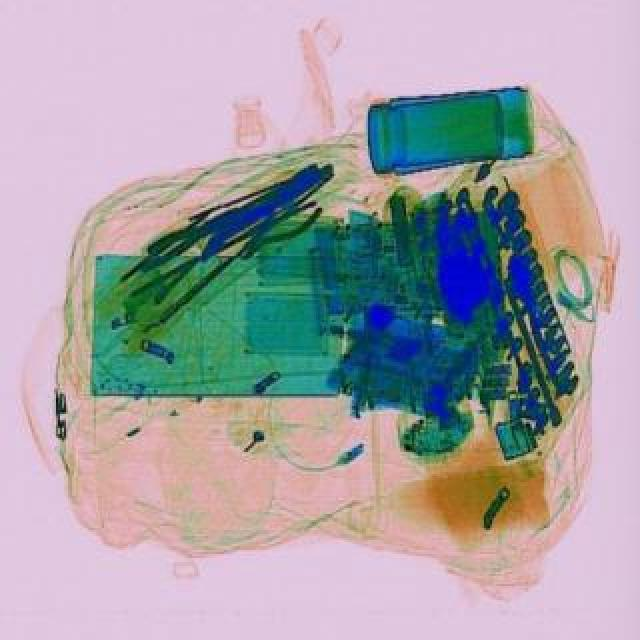wrench: (228, 188, 332, 274), (132, 204, 244, 280)
